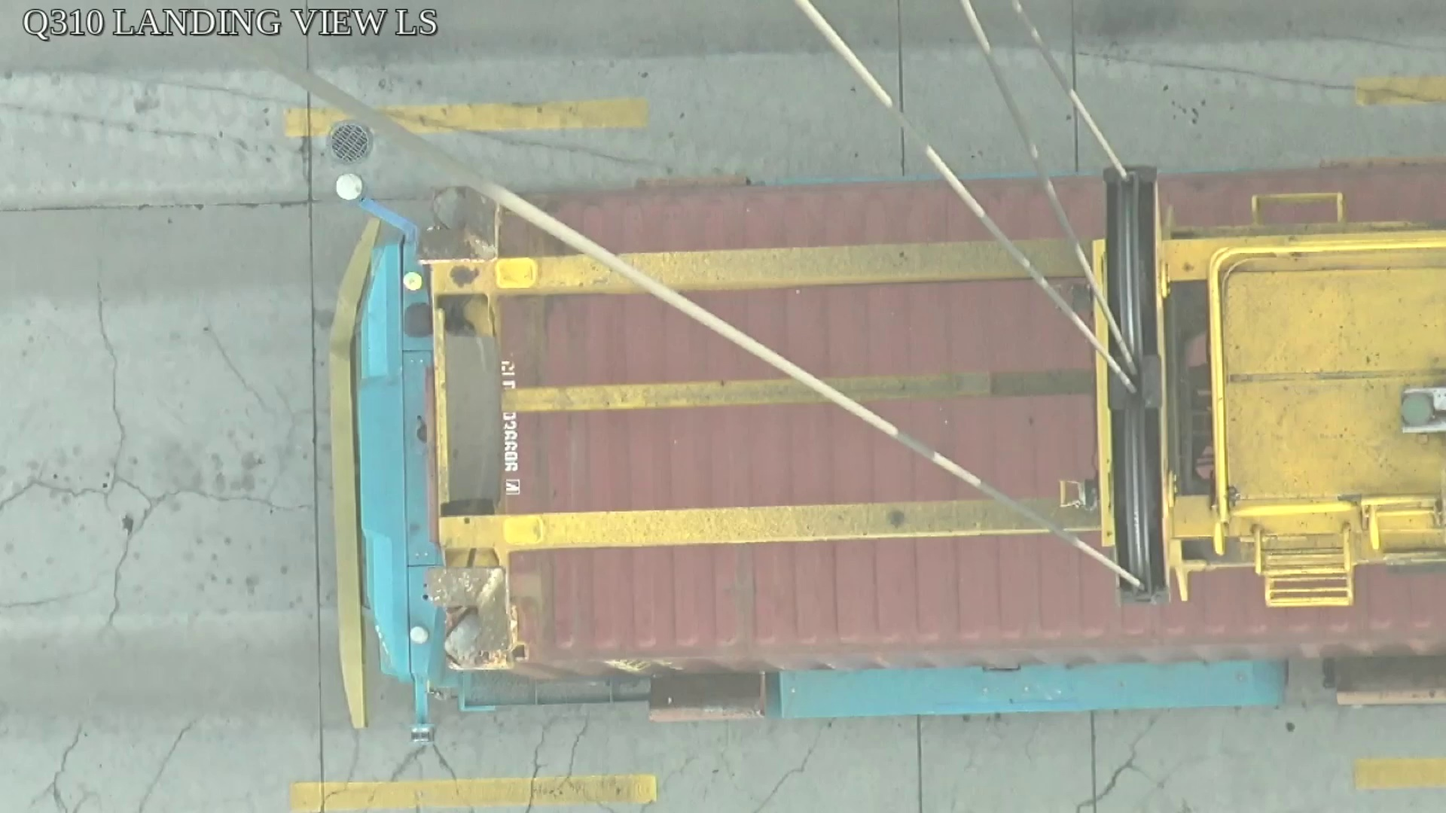aa: (1101, 161, 1186, 604)
